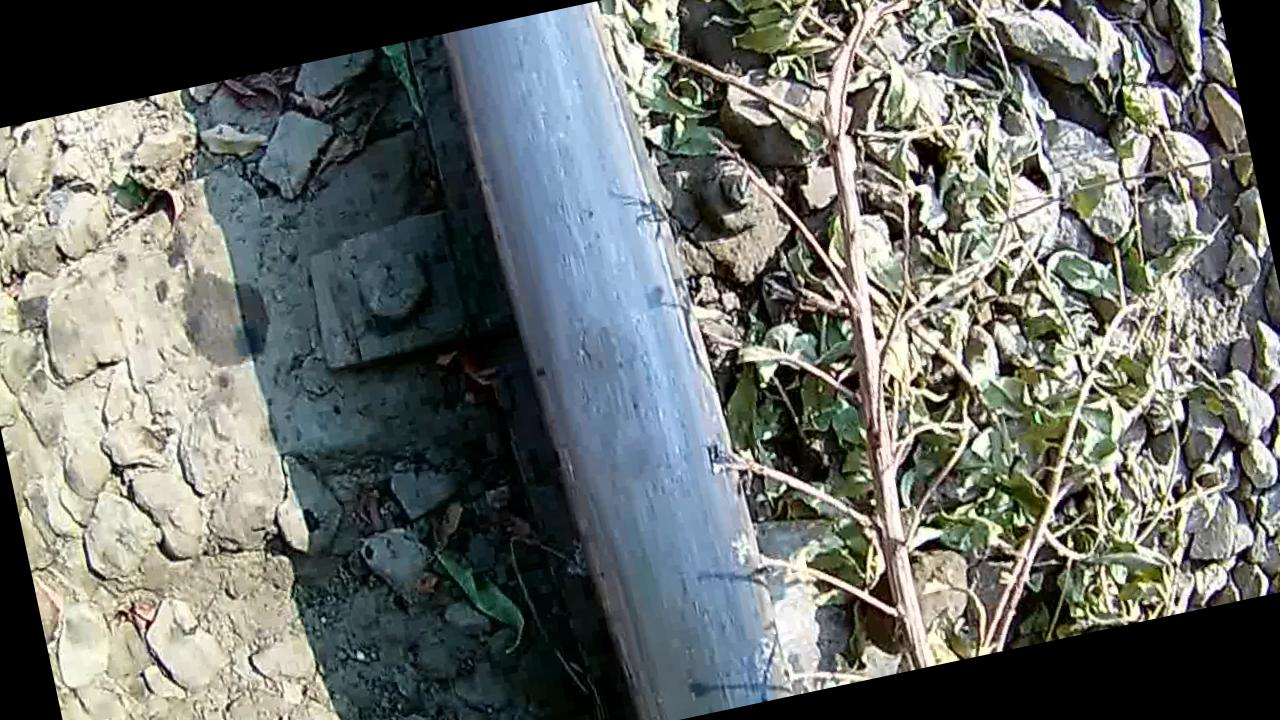bolt_missing: (520, 278, 714, 544)
